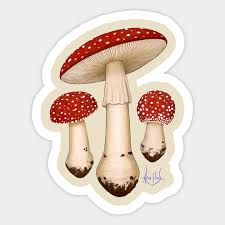Amanita muscaria: (57, 26, 170, 181), (46, 90, 100, 181), (134, 87, 175, 160)
